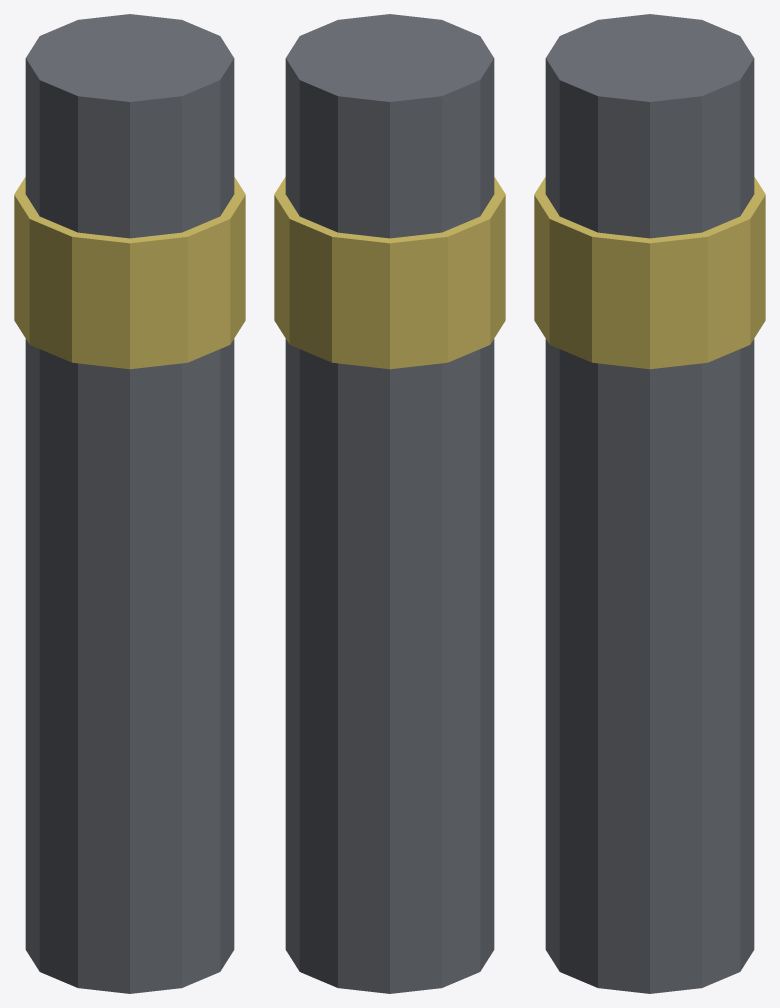
Rendered from bollard.glb.
3 views of the same model, side by side, from view 1: azimuth 30°, elevation 25°; view 2: azimuth 150°, elevation 25°; view 3: azimuth 270°, elevation 25° (orthographic).
Visible parts, largest first — view 1: bollard; view 2: bollard; view 3: bollard.
Part boxes in pixels (<box>): bollard: <box>14,14,245,993</box>; bollard: <box>274,14,505,993</box>; bollard: <box>534,14,765,993</box>.
Bounding box in the file's own units: 0.2 × 0.85 × 0.2.
